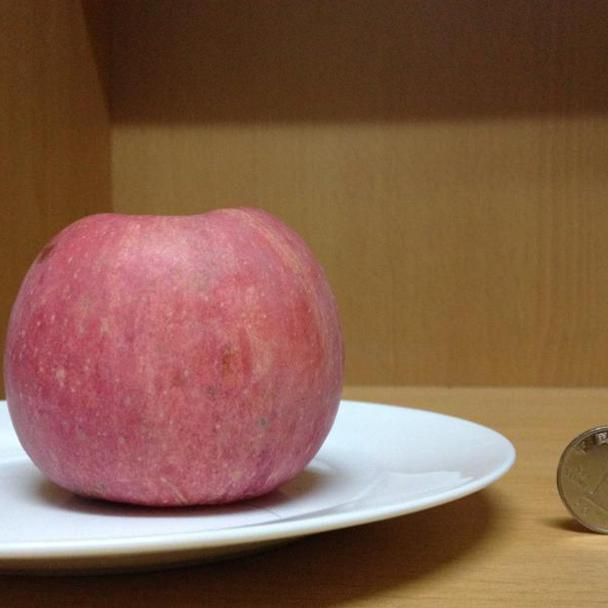apple: (4, 206, 344, 509)
